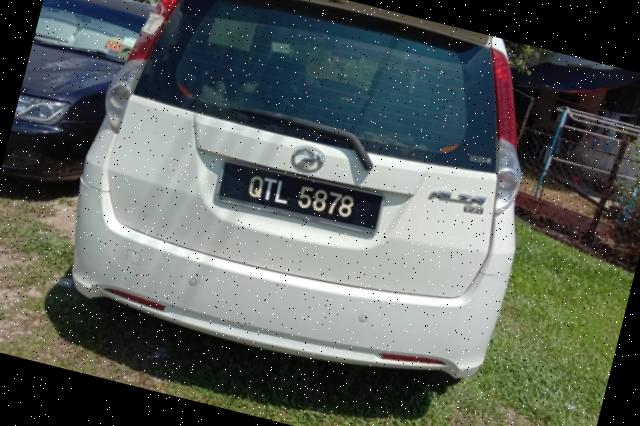License_Plate: (215, 157, 386, 240)
car: (46, 1, 567, 399)
